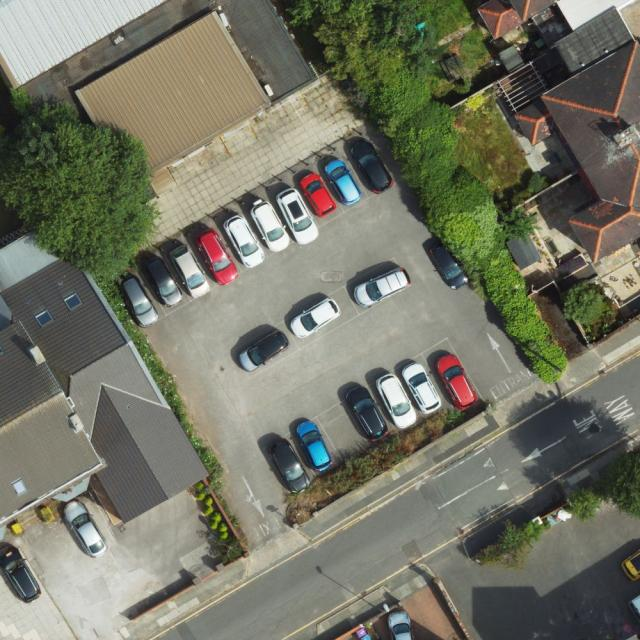roof: (0, 218, 212, 525), (0, 0, 312, 208), (516, 5, 640, 262), (477, 2, 557, 40)
skylight: (60, 288, 85, 314), (5, 472, 32, 496), (32, 308, 55, 328)
